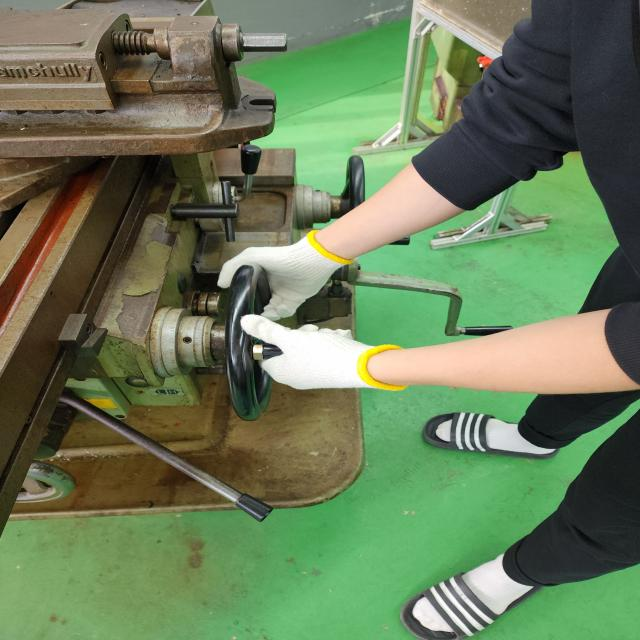Boots: (243, 323, 410, 389), (224, 219, 329, 319)
